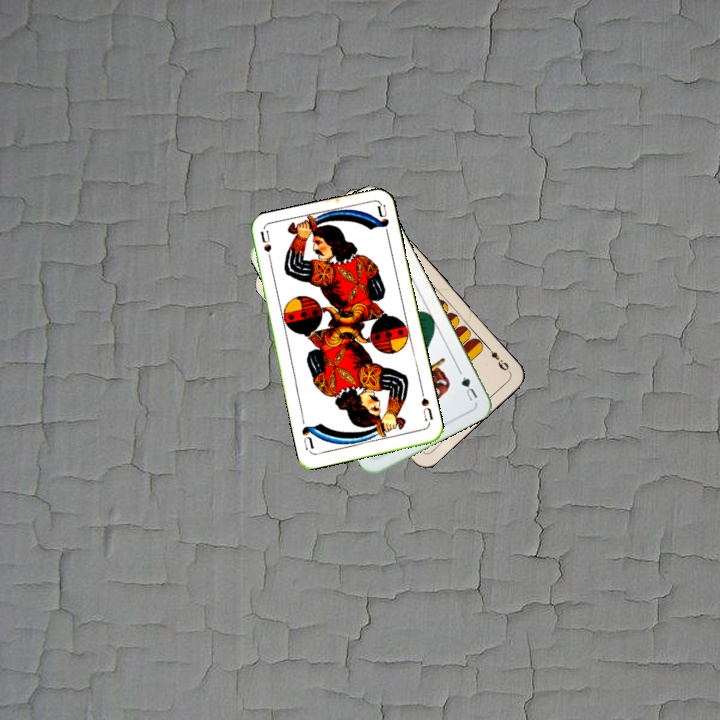E9: (482, 341, 512, 373)
GU: (455, 367, 480, 404)
SU: (256, 227, 275, 268), (417, 387, 435, 427)
